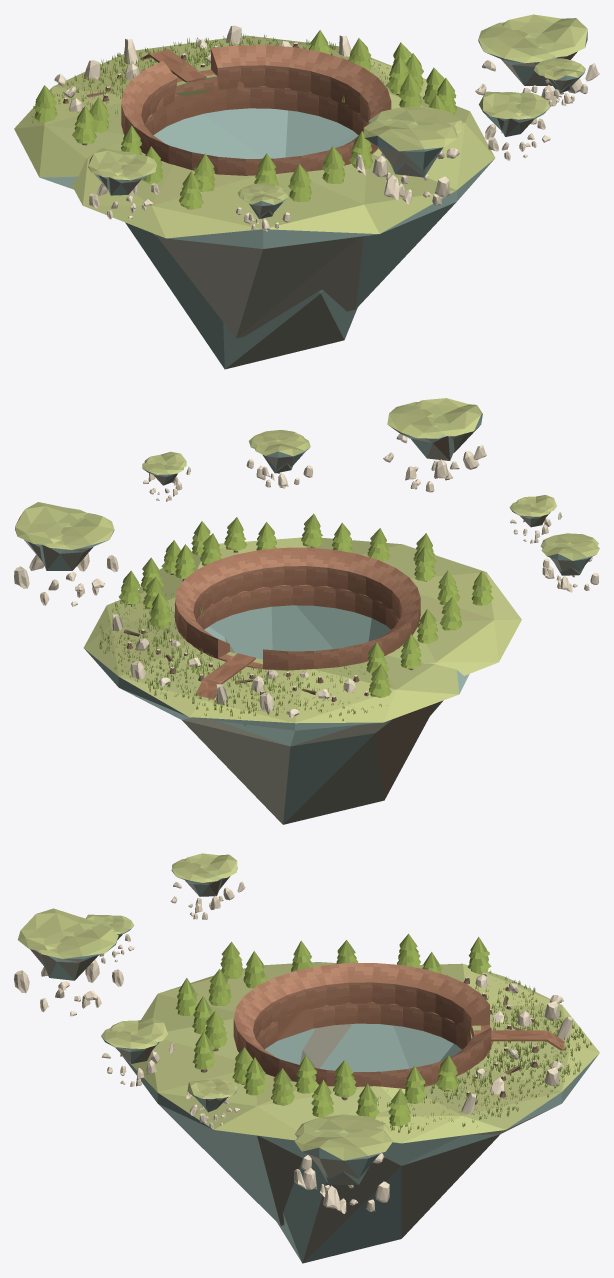
Rendered from stadium.gltf.
The picture shows the model from 3 angles, top to bottom: view 1: azimuth 30°, elevation 25°; view 2: azimuth 150°, elevation 25°; view 3: azimuth 270°, elevation 25°; orthographic projection. The views are drawn at different scales.
Parts seen in each view (by area): view 1: mergedIsland; view 2: mergedIsland; view 3: mergedIsland.
Boxes of the visible parts, x1,y1,x2,y2 form: mergedIsland: [14, 14, 599, 369]; mergedIsland: [14, 398, 599, 824]; mergedIsland: [14, 853, 599, 1263].
Bounding box in the file's own units: 145 × 80.79 × 136.
1 material, 1 textured.
